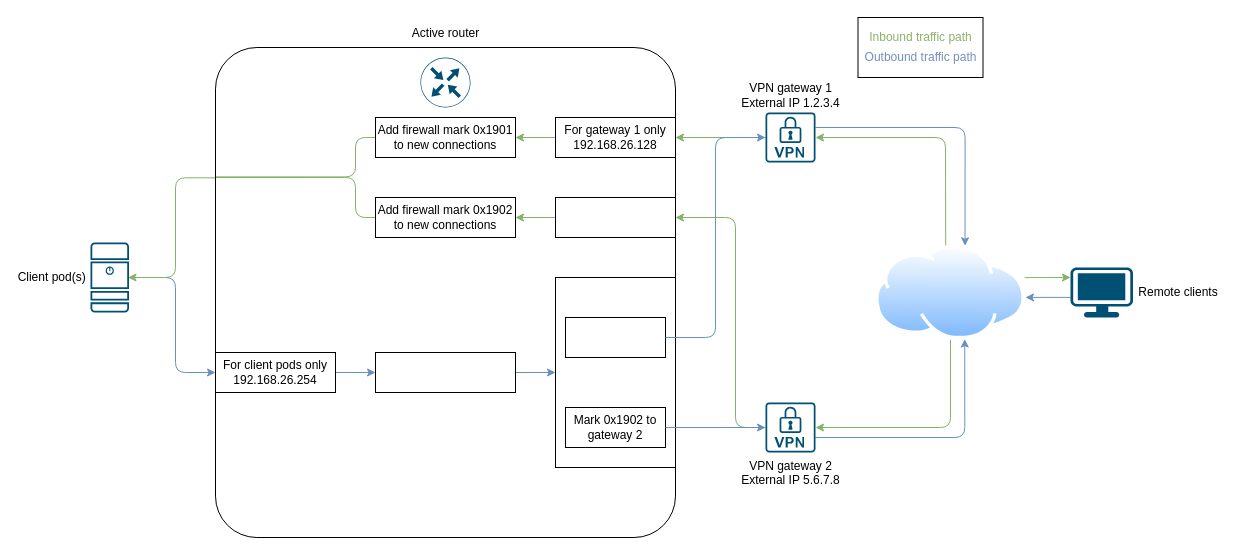
Some shapes in this 1235 by 555 pixel diagram are drawn without their labels. The box of each missing label's shape, as (x1, y1, x2, y2) in pixels:
For gateway 2 only 1921.68.26.129: (554, 196, 676, 238)
Internet: (875, 245, 1025, 339)
Mark 0x1901 to gateway 1: (564, 316, 666, 358)
Restore firewall mark for existing connections: (374, 352, 516, 392)
Routing logic: (554, 276, 676, 468)
